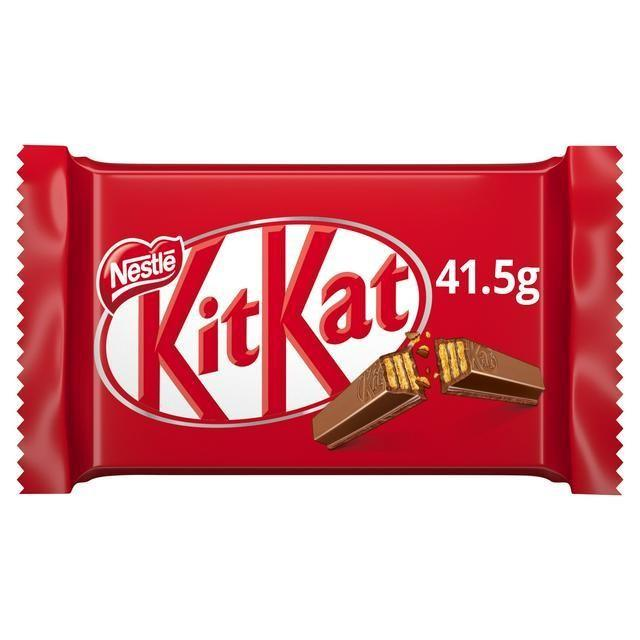kitkat_chocolate: (48, 162, 615, 500)
